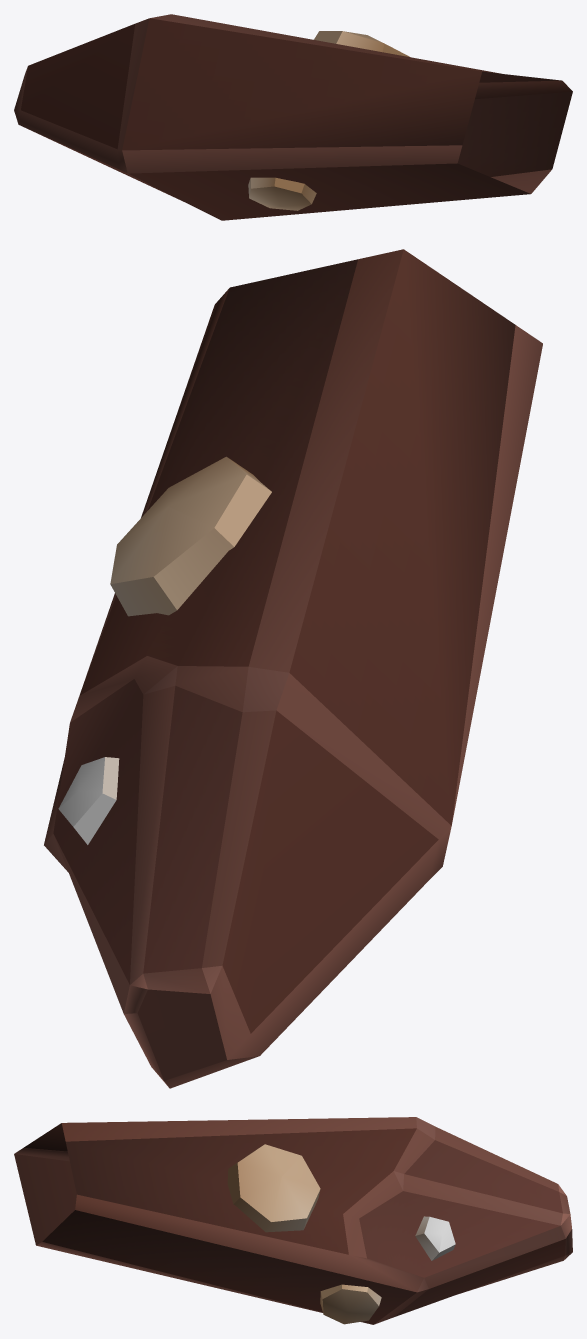
File: ChocolateChunkC.fbx
The picture shows the model from 3 angles, top to bottom: view 1: azimuth 30°, elevation 25°; view 2: azimuth 150°, elevation 25°; view 3: azimuth 270°, elevation 25°; orthographic projection. The views are drawn at different scales.
Visible parts, largest first — view 1: ChocolateChunkC; view 2: ChocolateChunkC; view 3: ChocolateChunkC.
Boxes of the visible parts, box(x1,y1,x2,y2) form: ChocolateChunkC: box(14, 14, 572, 220); ChocolateChunkC: box(44, 249, 542, 1088); ChocolateChunkC: box(14, 1117, 572, 1324).
Size of the model in its own units: 65.16 by 55.45 by 121.
